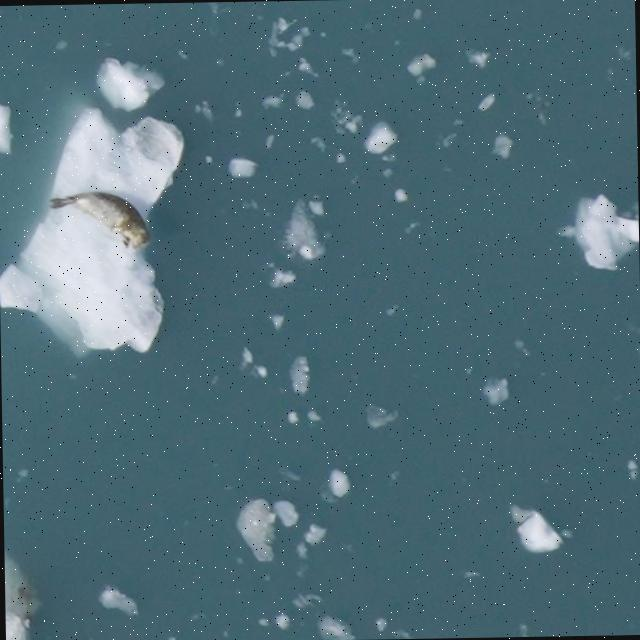seal: (44, 168, 163, 257)
